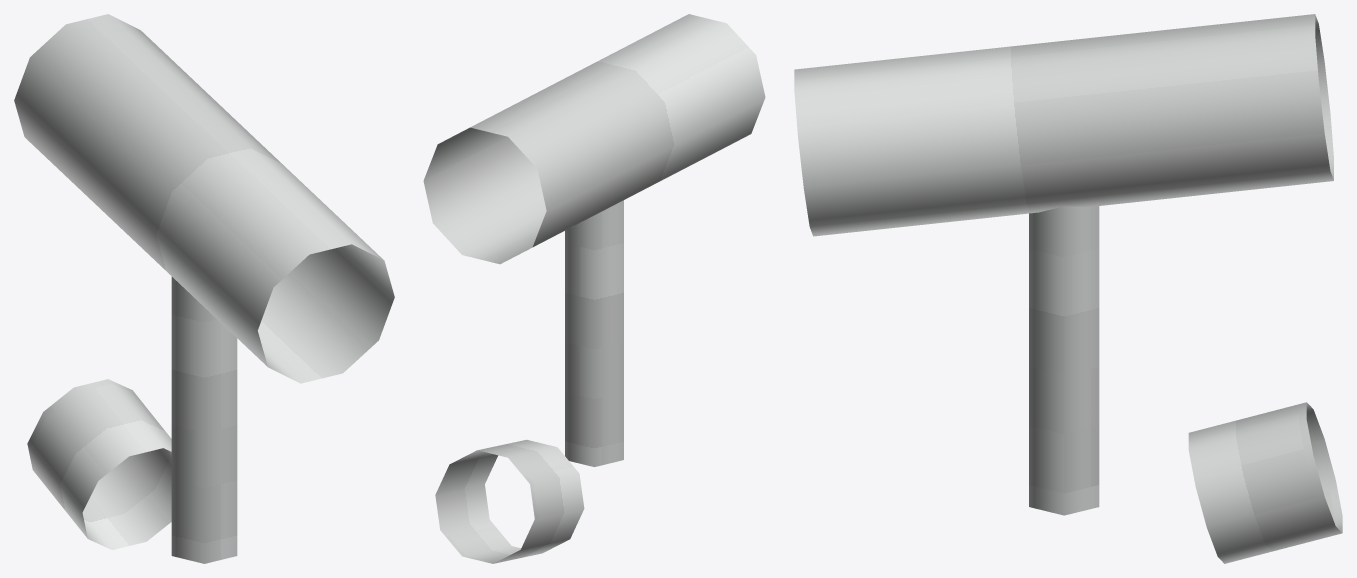
The model's file is trusssignalarm_sloped8_c5.obj.
The picture shows the model from 3 angles, left to right: view 1: azimuth 30°, elevation 25°; view 2: azimuth 150°, elevation 25°; view 3: azimuth 270°, elevation 25°; orthographic projection. The views are drawn at different scales.
Visible parts, largest first — view 1: trusssignalarm_sloped8_c5; view 2: trusssignalarm_sloped8_c5; view 3: trusssignalarm_sloped8_c5.
Part boxes in pixels (x1,y1,x2,y2): trusssignalarm_sloped8_c5: [14, 14, 394, 563]; trusssignalarm_sloped8_c5: [423, 14, 765, 563]; trusssignalarm_sloped8_c5: [794, 14, 1342, 563].
Bounding box in the file's own units: 0.325 × 1.12 × 1.05.
